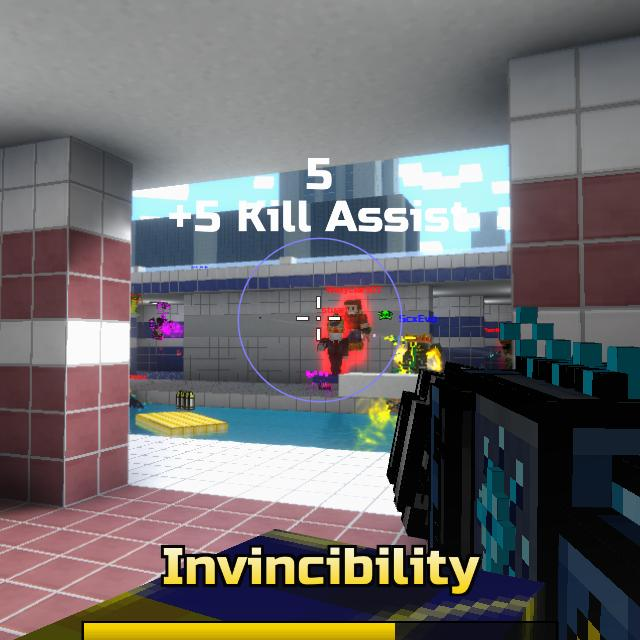Enemy: (317, 317, 354, 376), (343, 299, 371, 352)
